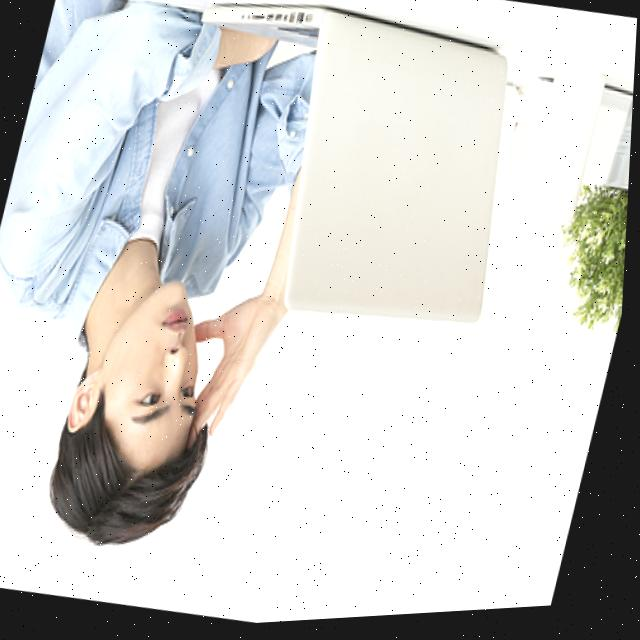notebook-person: (0, 0, 557, 634)
